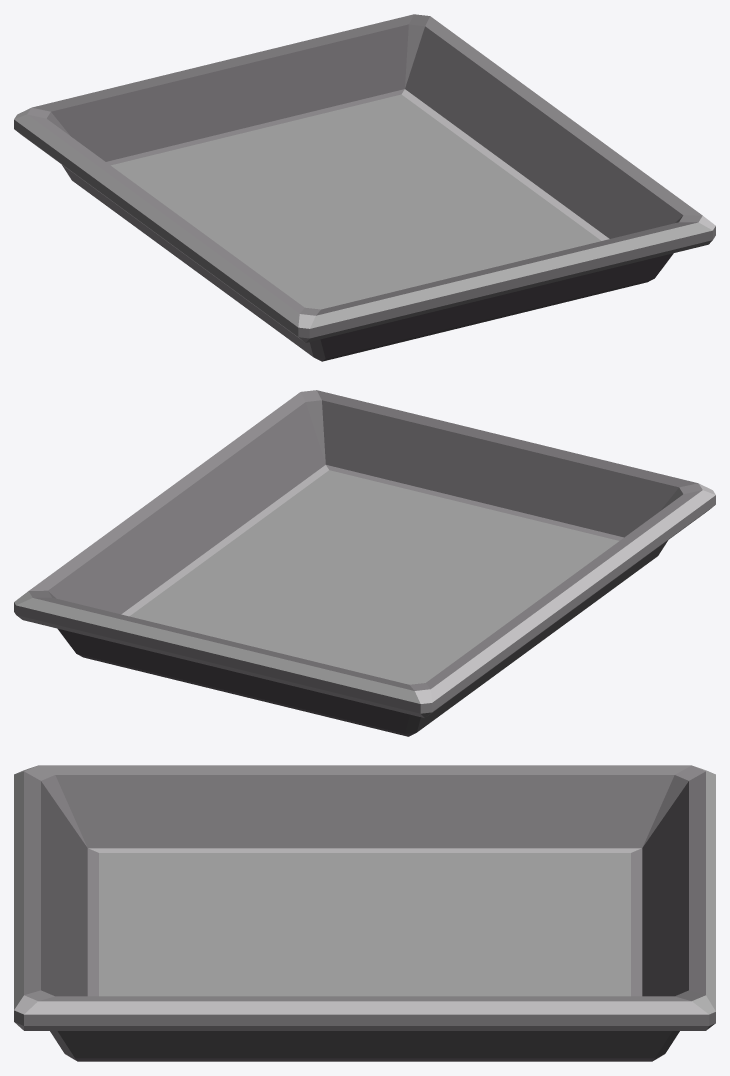
File: BAKE_INT_L3_BakingTray_01.fbx
3 renders of one model, top to bottom at view 1: azimuth 30°, elevation 25°; view 2: azimuth 150°, elevation 25°; view 3: azimuth 270°, elevation 25°, orthographic. The views are drawn at different scales.
Visible parts, largest first — view 1: BAKE_INT_L3_BakingTray_01; view 2: BAKE_INT_L3_BakingTray_01; view 3: BAKE_INT_L3_BakingTray_01.
Boxes of the visible parts, x1,y1,x2,y2 form: BAKE_INT_L3_BakingTray_01: [14, 14, 715, 361]; BAKE_INT_L3_BakingTray_01: [14, 390, 715, 736]; BAKE_INT_L3_BakingTray_01: [14, 765, 715, 1061].
Bounding box in the file's own units: 0.5154 × 0.0817 × 0.6258.
